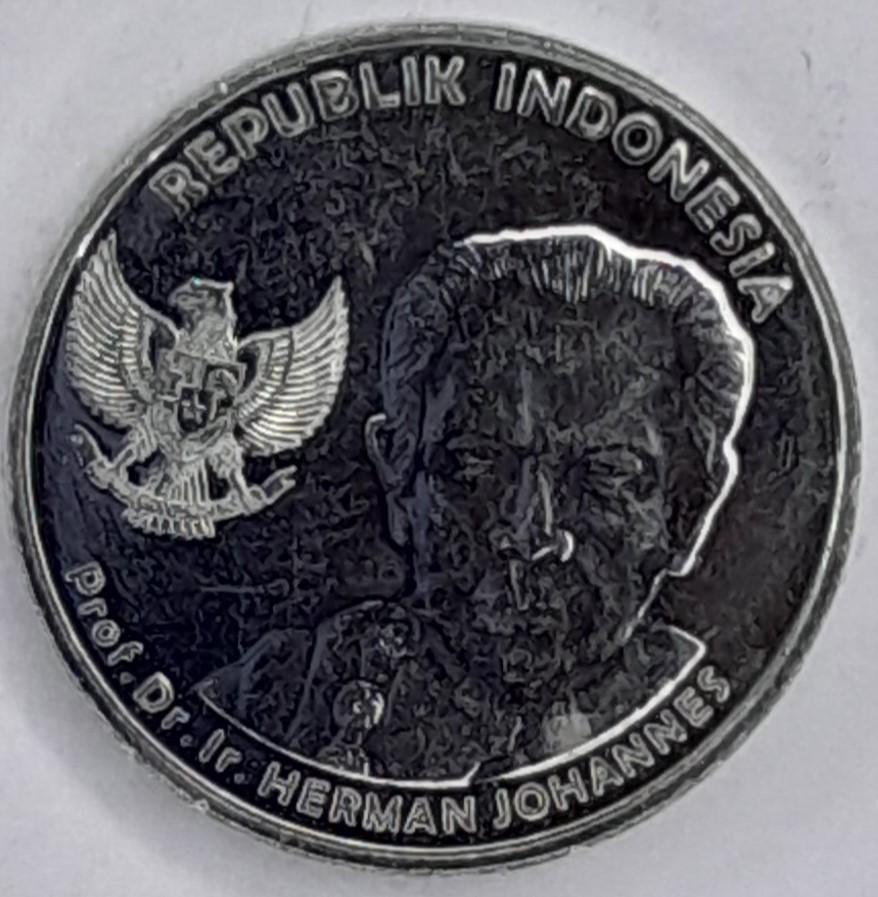coin_100_e2016: (3, 16, 866, 875)
